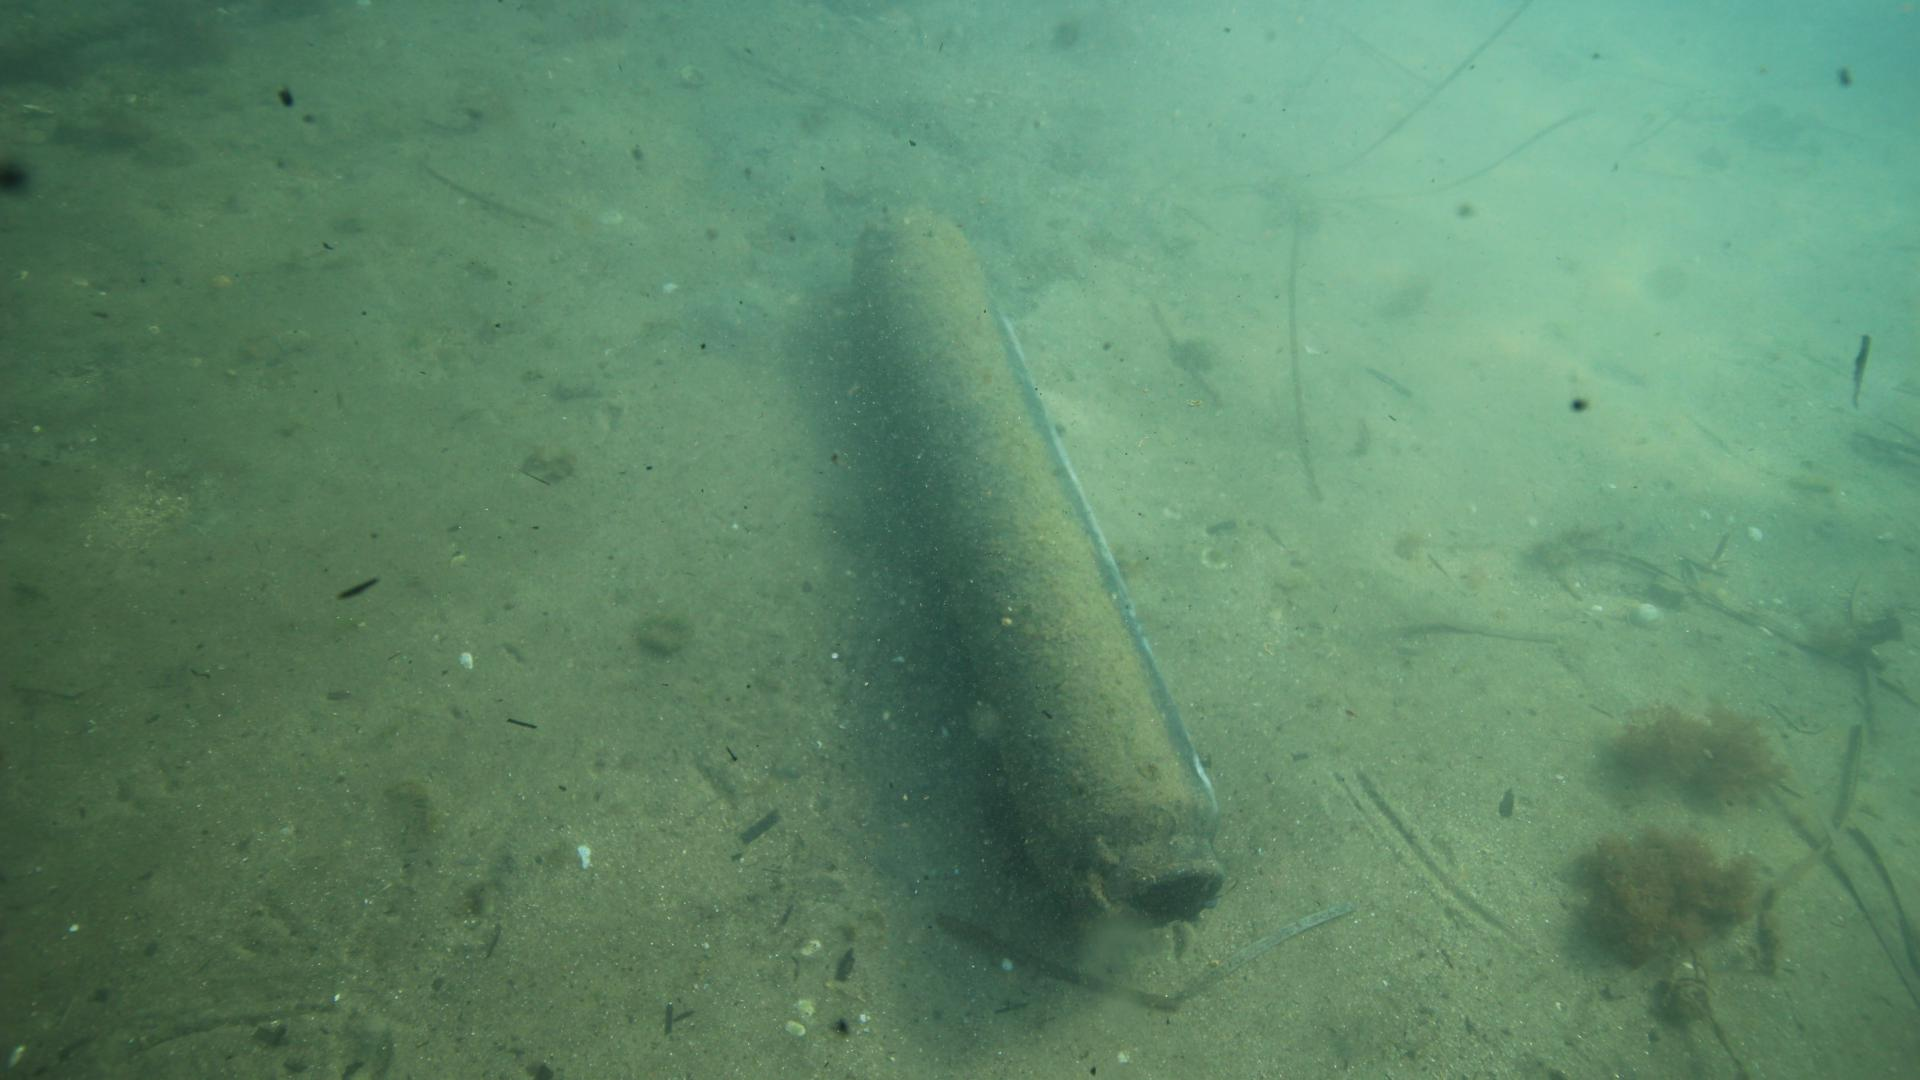eel fish trap: (847, 204, 1226, 926)
